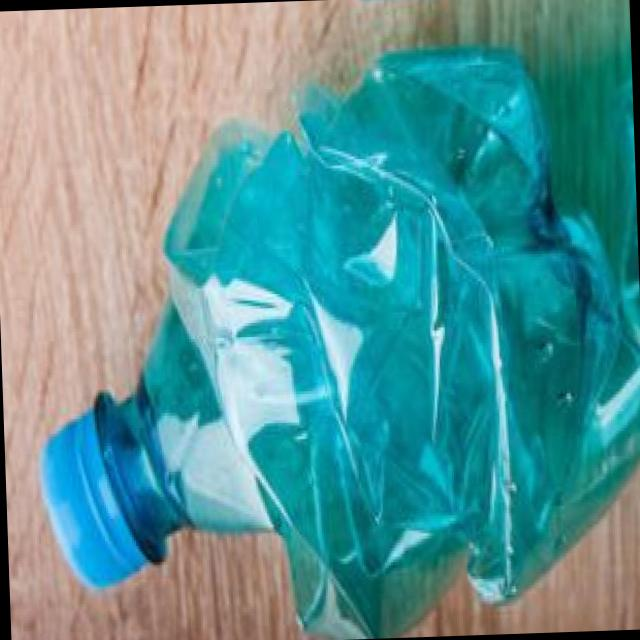general: (21, 31, 640, 640)
